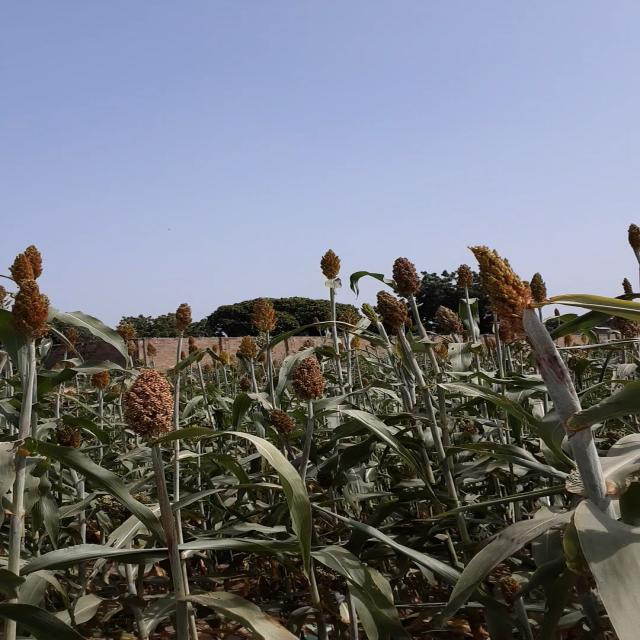UnripeSorghum: (439, 235, 587, 323)
